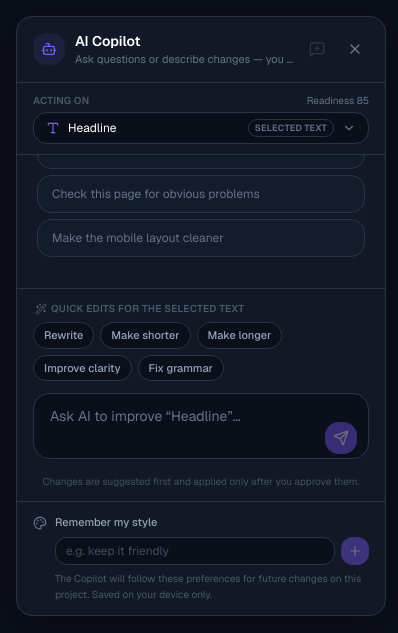
element quick actions › offers element actions when a text field is selected and applies a suggestion
The width and height of the screenshot is (398, 633).
(page scrolled)
Click the button with test id "copilot-quick-rewrite" at [64, 335], box [33, 322, 94, 348]
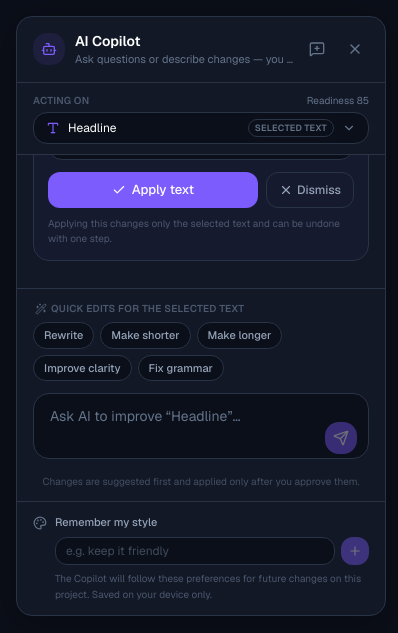
Note: Apply uses the real applyElementSuggestion → editor store.
Click the button with test id "copilot-apply-suggestion" at [153, 190], box [48, 172, 258, 208]
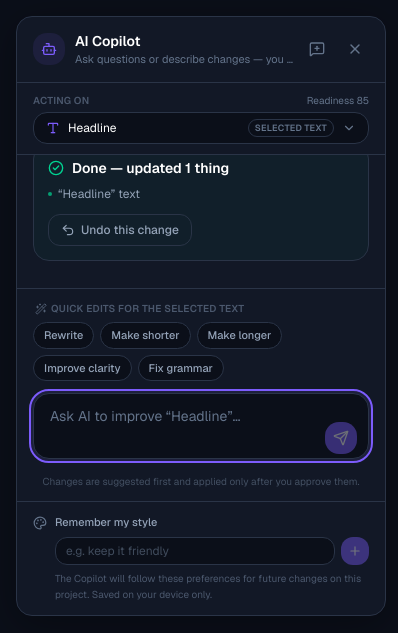
Expected: the element with test id "copilot-change-summary" is shown, [33, 154, 369, 261]
